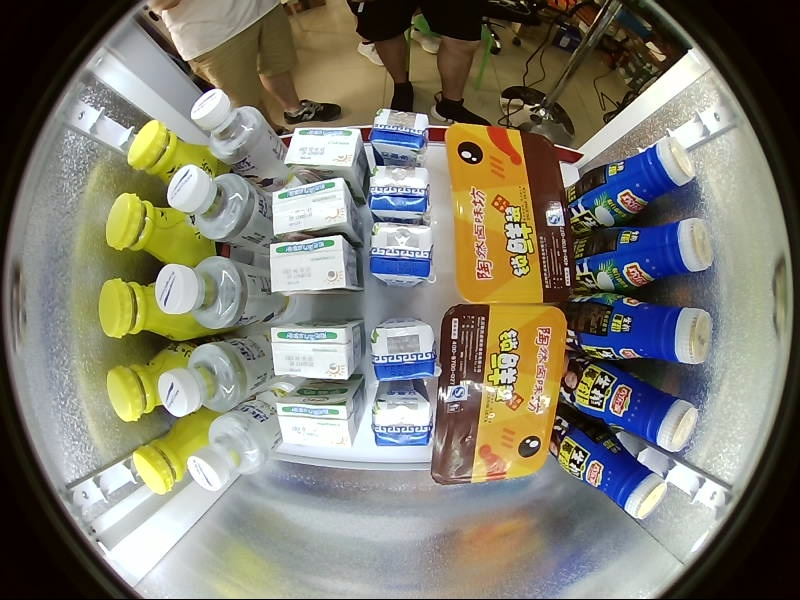ops-m102: (409, 129, 536, 270), (403, 48, 515, 195), (389, 295, 504, 424), (387, 393, 494, 524), (554, 364, 681, 464), (544, 225, 702, 282), (100, 190, 216, 263), (128, 410, 215, 498), (95, 275, 204, 343), (99, 342, 191, 421), (597, 313, 697, 381), (125, 114, 219, 185), (564, 463, 650, 522), (424, 515, 502, 580), (624, 131, 679, 195)
ops-m103: (480, 349, 631, 485), (496, 165, 651, 281), (479, 44, 588, 202), (484, 411, 602, 551), (484, 281, 661, 365), (580, 375, 703, 477), (572, 104, 686, 206), (581, 184, 718, 261), (580, 324, 729, 393), (581, 259, 728, 325)
ops-m104: (230, 140, 309, 217), (335, 121, 405, 202), (317, 270, 388, 346), (220, 281, 301, 346), (314, 346, 388, 417), (330, 182, 397, 260), (228, 352, 293, 424), (305, 412, 374, 472), (225, 206, 285, 269), (241, 424, 296, 483)
ops-m129: (254, 326, 329, 393), (268, 180, 339, 248), (264, 244, 343, 305), (274, 119, 344, 187), (369, 315, 441, 380), (257, 383, 325, 447), (371, 380, 434, 446), (368, 163, 431, 225), (169, 382, 229, 442), (180, 135, 239, 193), (165, 190, 223, 247), (369, 109, 428, 165), (157, 333, 219, 386)
ops-m141: (421, 297, 485, 365), (431, 221, 495, 286), (414, 362, 480, 420), (542, 229, 593, 291), (528, 391, 582, 448), (430, 418, 490, 464), (532, 343, 580, 395), (536, 287, 581, 340)
ops-m147: (346, 161, 424, 254), (322, 254, 409, 337), (329, 339, 414, 417), (465, 233, 547, 312), (327, 416, 405, 497), (456, 313, 535, 390), (471, 160, 546, 233), (450, 393, 536, 456), (347, 98, 422, 161), (472, 102, 547, 160)
ops-m148: (131, 93, 264, 217), (531, 87, 677, 194), (560, 355, 704, 460), (547, 191, 716, 280), (124, 389, 254, 493), (100, 166, 239, 261), (88, 247, 241, 331), (94, 326, 232, 417), (599, 277, 722, 370), (610, 447, 688, 520)
ops-m149: (282, 126, 370, 205), (275, 374, 367, 448), (270, 176, 364, 248), (268, 317, 366, 379), (536, 148, 624, 216), (267, 237, 365, 296), (549, 354, 628, 421), (546, 413, 618, 484), (210, 138, 278, 206), (548, 300, 640, 350), (194, 336, 265, 396), (200, 259, 279, 309), (201, 207, 270, 259), (567, 205, 637, 256), (198, 391, 261, 436)
ops-m150: (242, 148, 340, 221), (175, 344, 272, 410), (227, 224, 329, 279), (226, 379, 321, 431), (227, 286, 319, 337), (178, 152, 251, 215), (235, 333, 318, 384), (166, 290, 227, 336), (194, 419, 252, 467), (169, 226, 228, 272)
ops-m152: (478, 147, 645, 277), (475, 64, 619, 209), (453, 410, 580, 574), (269, 347, 401, 504), (282, 110, 407, 275), (472, 357, 625, 484), (319, 22, 413, 196), (242, 266, 394, 368), (321, 420, 408, 593), (480, 274, 661, 357), (548, 404, 670, 525), (566, 132, 700, 230), (560, 367, 699, 454), (579, 215, 712, 297), (569, 296, 715, 367)
ops-m154: (473, 212, 598, 298), (154, 333, 268, 421), (479, 321, 574, 422), (163, 163, 269, 253), (152, 252, 265, 331), (475, 408, 568, 500), (186, 390, 269, 493), (189, 84, 279, 176), (504, 93, 580, 190), (138, 119, 217, 196), (114, 256, 200, 325), (113, 333, 193, 405), (117, 192, 199, 261), (495, 475, 562, 547), (135, 396, 197, 468)
ops-m155: (321, 300, 476, 490), (329, 115, 477, 301), (430, 300, 566, 486), (444, 121, 576, 304), (213, 116, 333, 285), (202, 299, 317, 474)
ops-m156: (402, 194, 470, 258), (401, 268, 467, 332), (294, 138, 347, 215), (384, 331, 447, 394), (274, 311, 333, 374), (283, 226, 336, 290), (415, 135, 472, 194), (288, 380, 345, 436), (391, 394, 445, 441), (296, 438, 339, 487)
